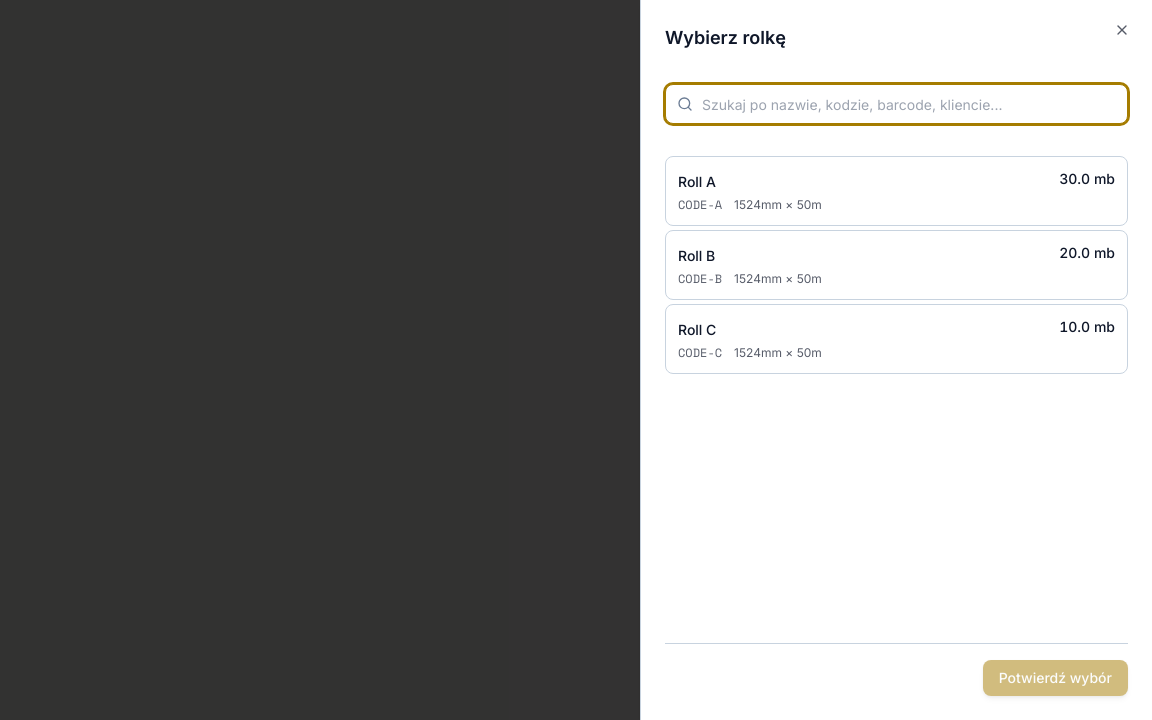
Test: RollSelectDrawer › Search filtering › filters rolls by product code
The image size is (1152, 720).
Expected: the text "Roll B" is shown, [678,247,715,264]
Step 1. Type "CODE-B" into the field with placeholder "Szukaj po nazwie, kodzie, barcode, kliencie..." → (896, 104), box [665,84,1128,124]
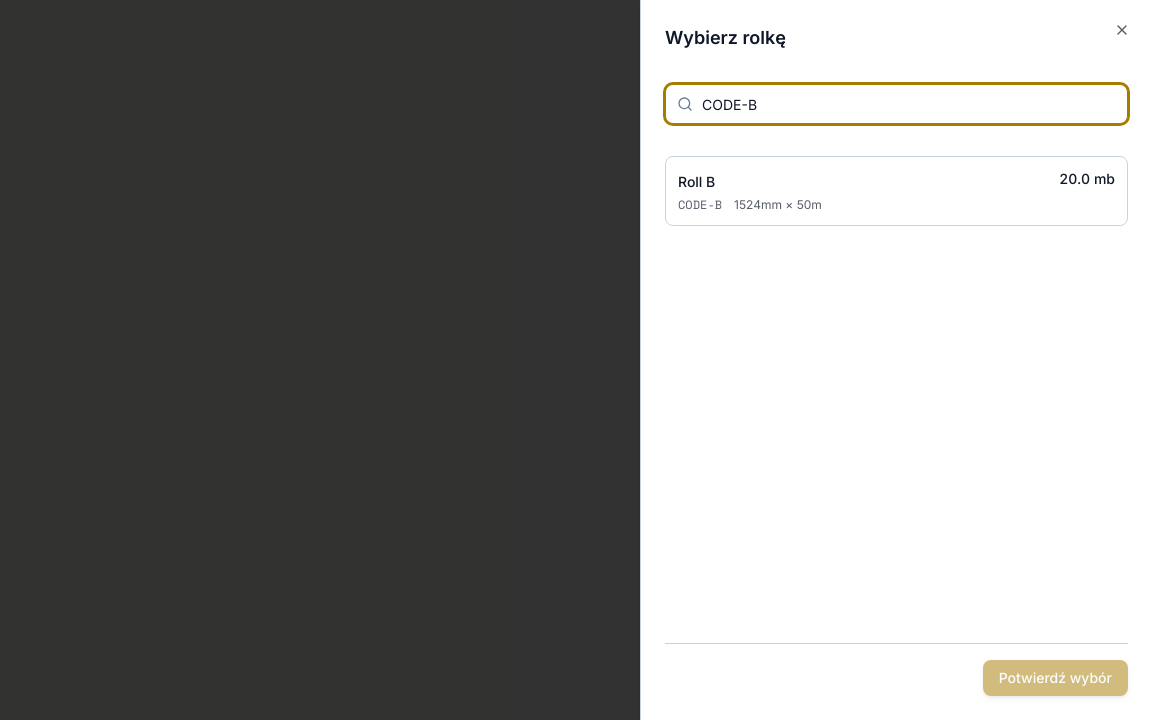
Expected: the text "Roll B" is shown, [678,173,715,190]
Now the button "Roll A" is gone
